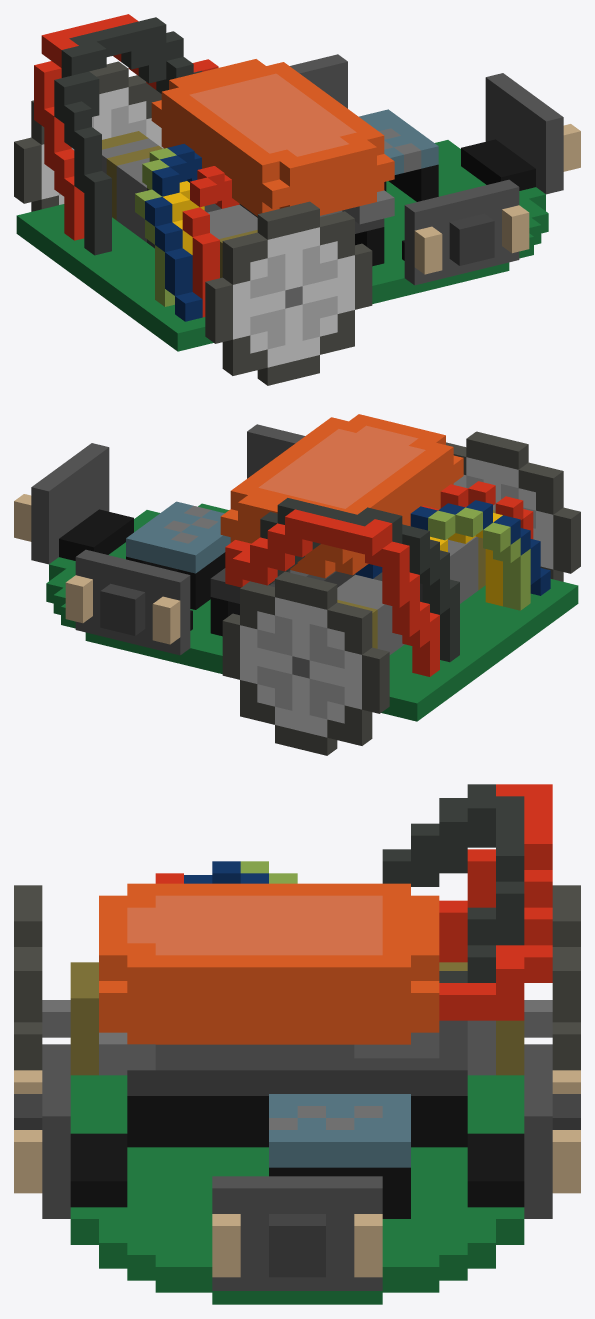
Rendered from micromouse.glb.
3 renders of one model, top to bottom at view 1: azimuth 30°, elevation 25°; view 2: azimuth 150°, elevation 25°; view 3: azimuth 270°, elevation 25°, orthographic. The views are drawn at different scales.
Parts seen in each view (by area): view 1: Node; view 2: Node; view 3: Node.
Part boxes in pixels (bbox=[...]): Node: bbox=[14, 14, 580, 385]; Node: bbox=[14, 414, 580, 755]; Node: bbox=[14, 784, 580, 1304].
Size of the model in its own units: 2.6 by 1.2 by 2.
1 material, 1 textured.
